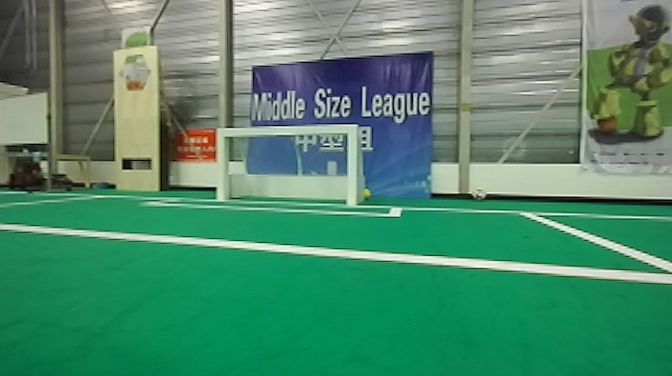ball: (471, 185, 489, 201), (356, 187, 375, 199)
goalpost: (342, 119, 368, 218), (211, 123, 235, 204)
